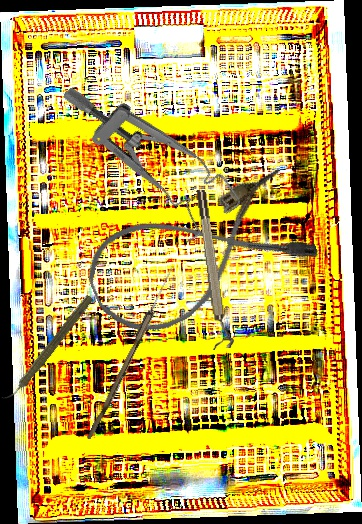Cannula: (75, 162, 323, 350)
Fixation Ring: (193, 188, 235, 350)
Handpiece: (0, 291, 96, 407)
Speculum: (60, 45, 245, 256)
Surgical Spoon: (86, 263, 177, 442)
